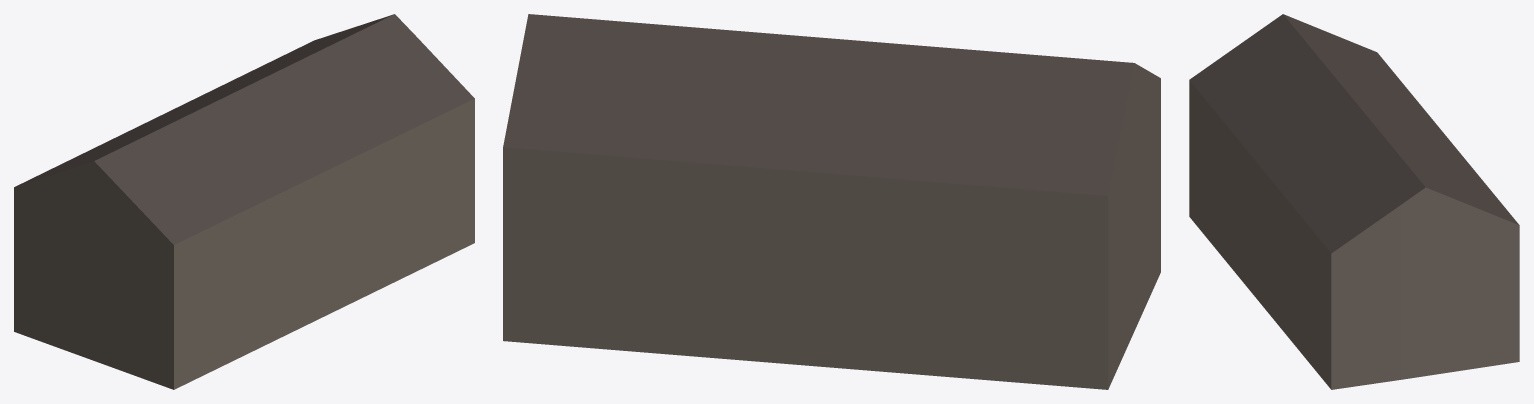
3 renders of one model, left to right at view 1: azimuth 30°, elevation 25°; view 2: azimuth 150°, elevation 25°; view 3: azimuth 270°, elevation 25°, orthographic. The views are drawn at different scales.
Parts seen in each view (by area): view 1: HP-w1198645037; view 2: HP-w1198645037; view 3: HP-w1198645037.
Boxes of the visible parts, bbox=[...] form: HP-w1198645037: bbox=[14, 14, 474, 389]; HP-w1198645037: bbox=[503, 14, 1160, 389]; HP-w1198645037: bbox=[1189, 14, 1519, 389].
Size of the model in its own units: 18.97 by 8.3 by 13.17.
